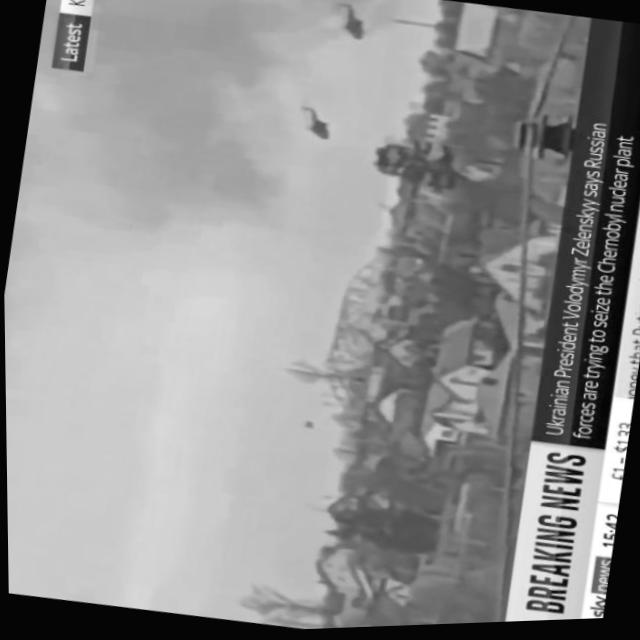helikopter: (264, 79, 366, 158), (295, 0, 402, 59)
